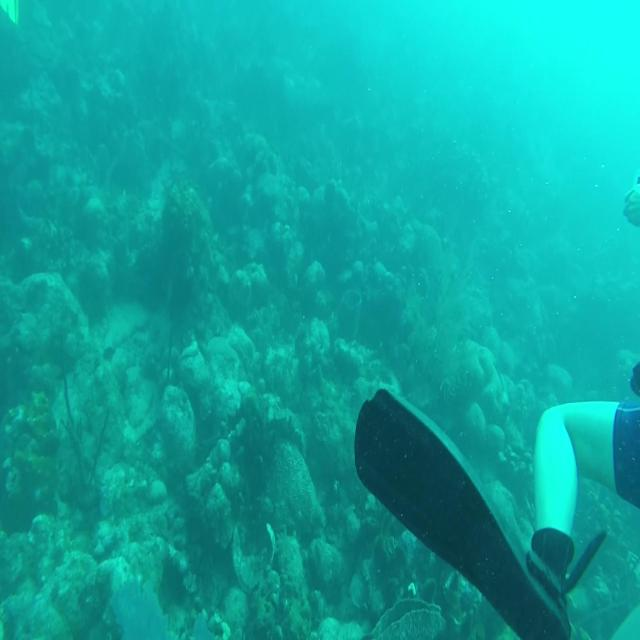human: (354, 377, 638, 638)
